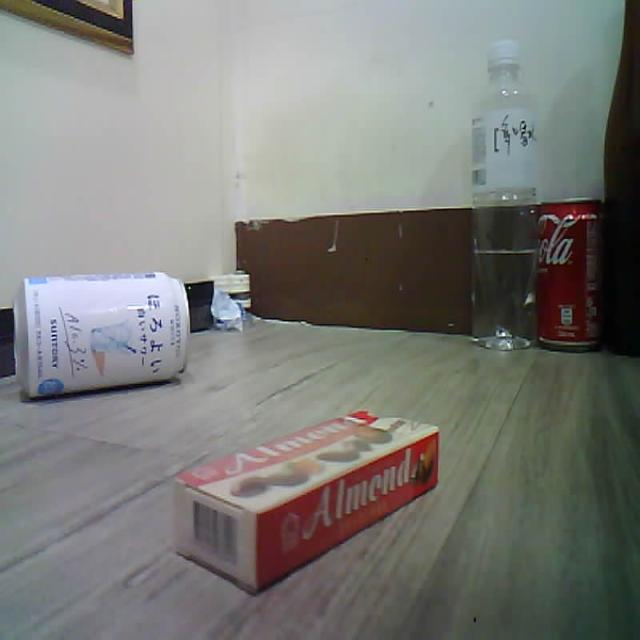bottle: (472, 41, 540, 349)
can: (14, 273, 189, 397), (537, 198, 602, 350)
